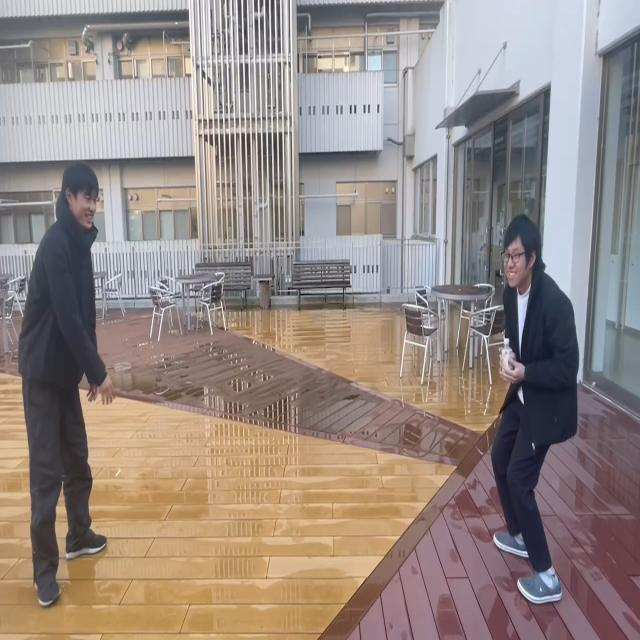bottle: (501, 337, 512, 373), (503, 338, 510, 350)
